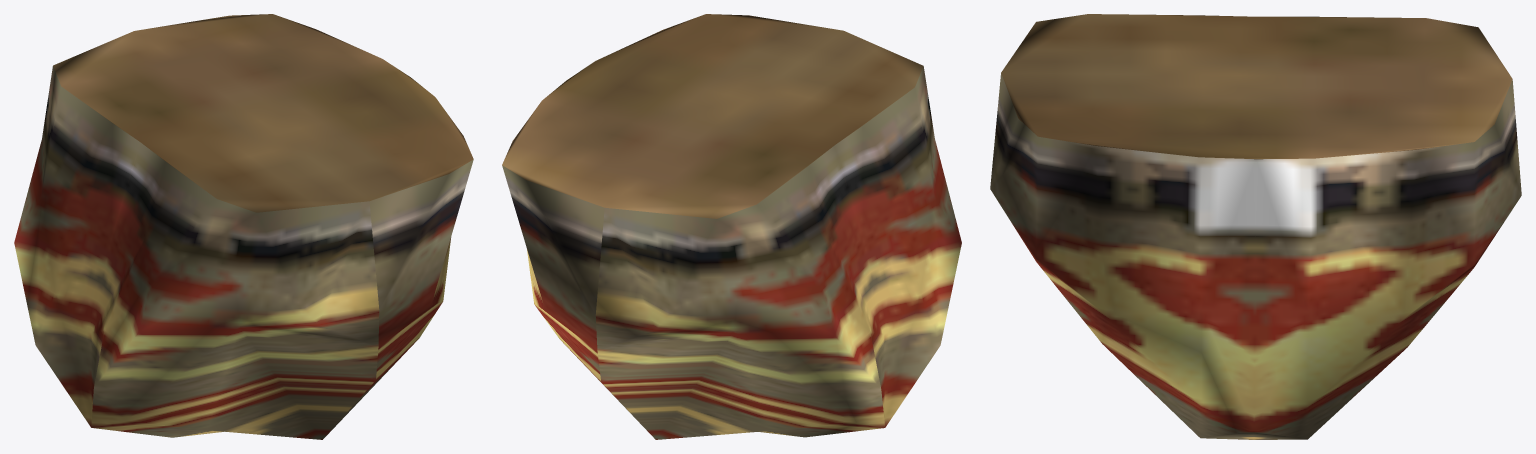
The model's file is Robot01.Pelvis3.fbx.
The picture shows the model from 3 angles, left to right: view 1: azimuth 30°, elevation 25°; view 2: azimuth 150°, elevation 25°; view 3: azimuth 270°, elevation 25°; orthographic projection. The views are drawn at different scales.
Parts seen in each view (by area): view 1: mesh_1239; view 2: mesh_1239; view 3: mesh_1239.
Part boxes in pixels (bbox=[...]): mesh_1239: bbox=[14, 14, 473, 439]; mesh_1239: bbox=[502, 14, 961, 439]; mesh_1239: bbox=[990, 14, 1521, 439].
Size of the model in its own units: 32.27 by 28.42 by 39.86.
